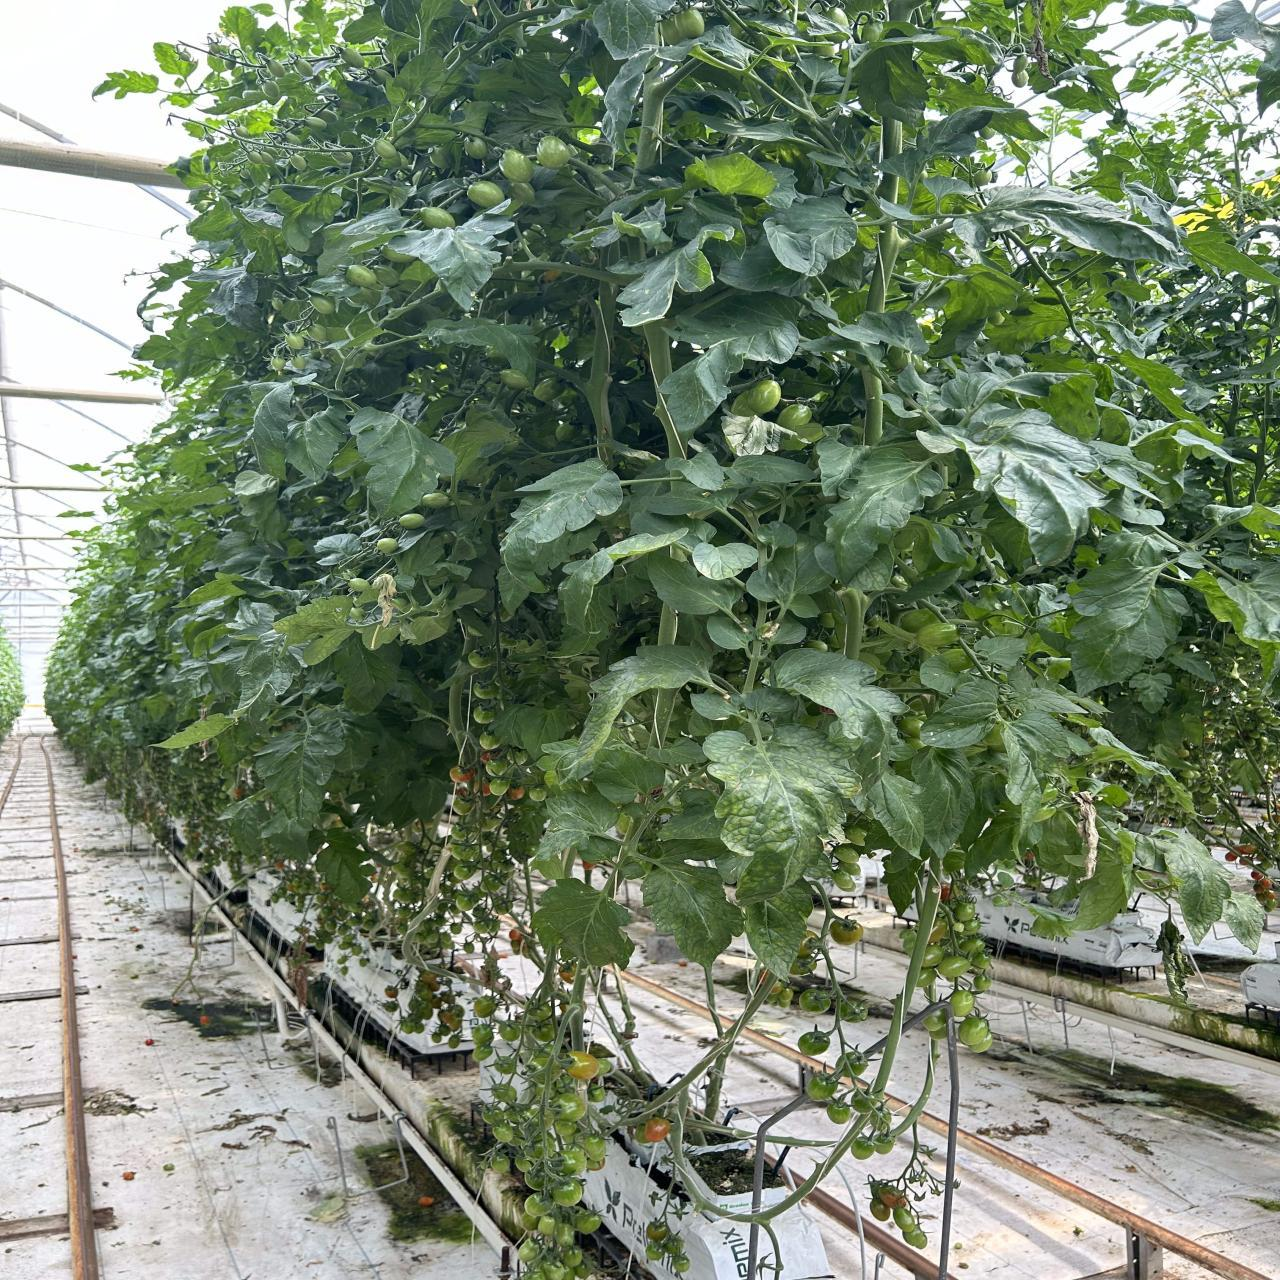Rugose leaf: (702, 726, 862, 906), (772, 648, 906, 789), (570, 645, 710, 775), (558, 527, 688, 633), (998, 710, 1090, 858), (641, 859, 743, 965), (1156, 836, 1231, 942), (273, 595, 365, 665), (744, 887, 811, 979), (1221, 890, 1265, 953)
Rugose tomato: (829, 917, 863, 945), (567, 1053, 601, 1081), (645, 1118, 670, 1143), (346, 607, 374, 627), (833, 871, 858, 892), (1012, 59, 1028, 87), (449, 764, 471, 783), (506, 785, 525, 799), (335, 331, 342, 338), (852, 1142, 858, 1149)
